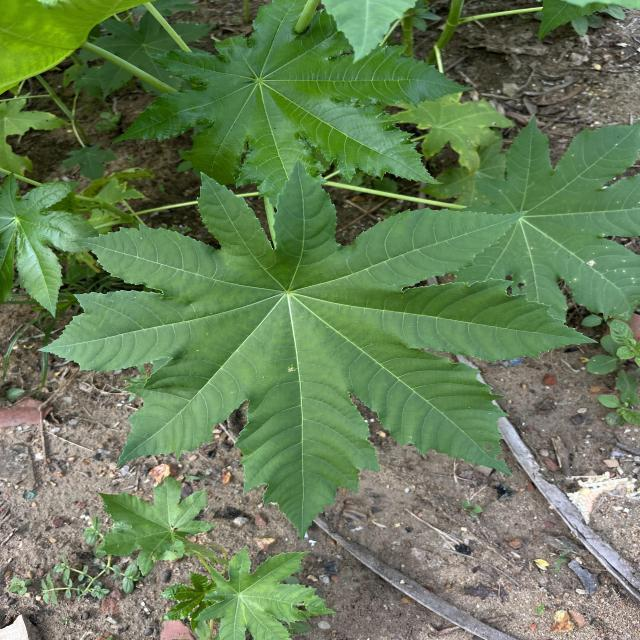Ricinus communis linn: (31, 155, 602, 544)
